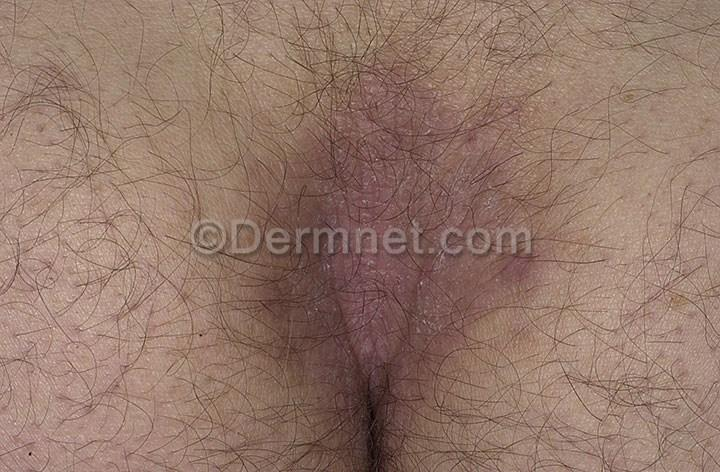Eczema: (410, 95, 482, 198), (282, 134, 345, 233), (419, 195, 516, 255), (343, 160, 413, 243), (343, 79, 419, 155), (422, 232, 491, 314), (275, 235, 335, 328), (343, 235, 422, 303), (343, 299, 420, 362), (411, 299, 472, 372), (482, 96, 536, 164), (295, 323, 339, 403), (502, 245, 549, 307), (394, 363, 428, 417)
